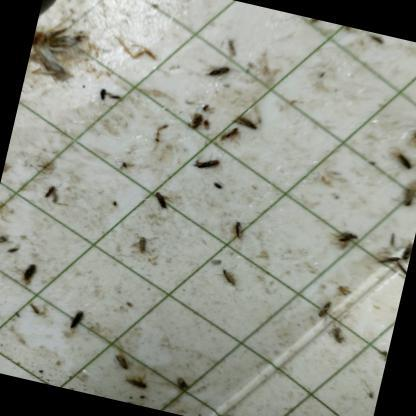prays_oleae: (329, 218, 361, 256), (127, 230, 160, 266), (188, 145, 224, 176), (214, 257, 243, 294), (108, 344, 136, 378), (200, 61, 232, 90), (324, 320, 352, 352), (62, 304, 88, 338), (391, 146, 416, 181), (230, 108, 262, 134), (148, 189, 176, 217), (14, 261, 40, 290), (226, 216, 251, 246), (122, 368, 152, 392), (186, 103, 209, 134), (316, 297, 340, 325), (394, 238, 414, 271), (172, 368, 194, 398), (330, 280, 357, 303), (378, 246, 402, 271), (218, 122, 242, 146), (94, 81, 111, 108), (40, 183, 58, 205), (208, 176, 226, 197), (0, 227, 12, 254), (393, 262, 408, 281), (408, 116, 416, 147)
